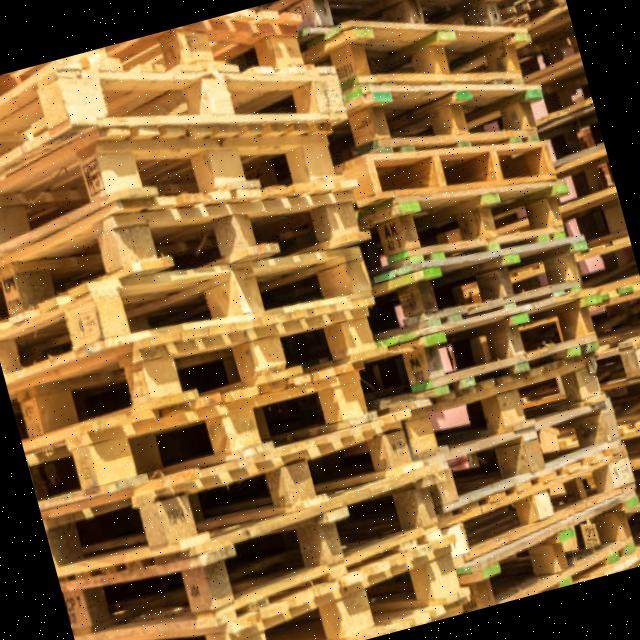Wooden-Pallets: (39, 410, 423, 584), (60, 470, 444, 640), (4, 296, 388, 446), (101, 183, 366, 286), (446, 438, 631, 563), (330, 28, 542, 102), (359, 132, 565, 208)
